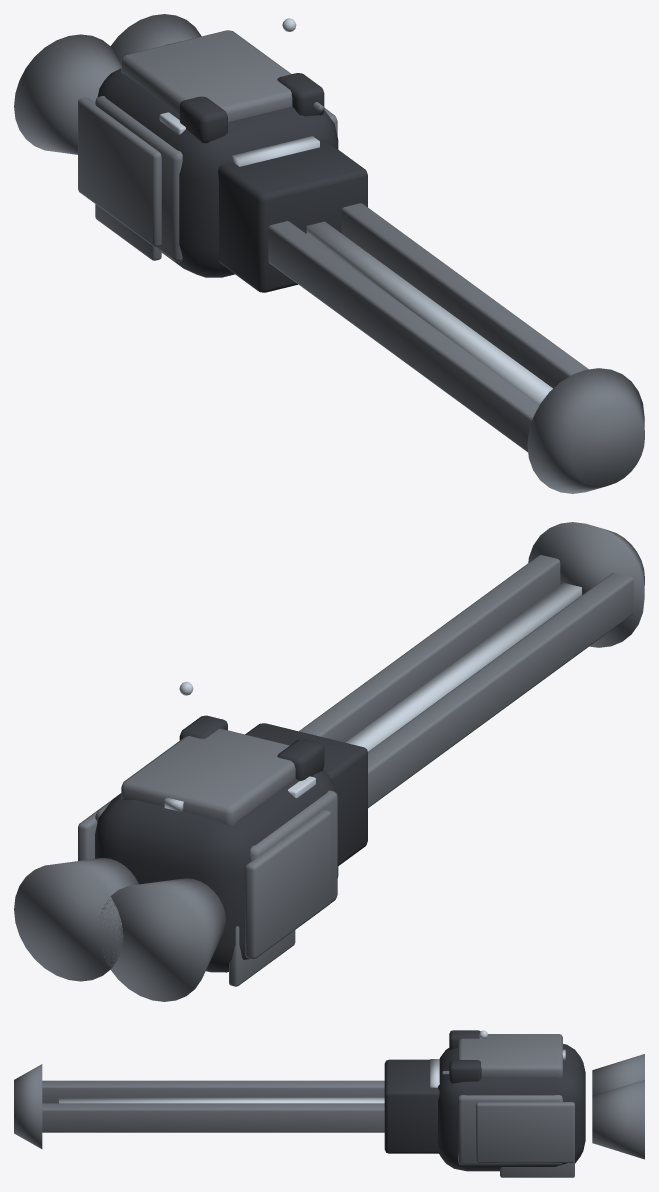
Rendered from weapon_drone_rail.glb.
The picture shows the model from 3 angles, top to bottom: view 1: azimuth 30°, elevation 25°; view 2: azimuth 150°, elevation 25°; view 3: azimuth 270°, elevation 25°; orthographic projection. The views are drawn at different scales.
Visible parts, largest first — view 1: weapon_drone_rail; view 2: weapon_drone_rail; view 3: weapon_drone_rail.
Boxes of the visible parts, bbox=[...] form: weapon_drone_rail: bbox=[14, 14, 644, 493]; weapon_drone_rail: bbox=[14, 522, 644, 1001]; weapon_drone_rail: bbox=[14, 1030, 644, 1177].
Bounding box in the file's own units: 0.696 × 0.7692 × 3.11.
